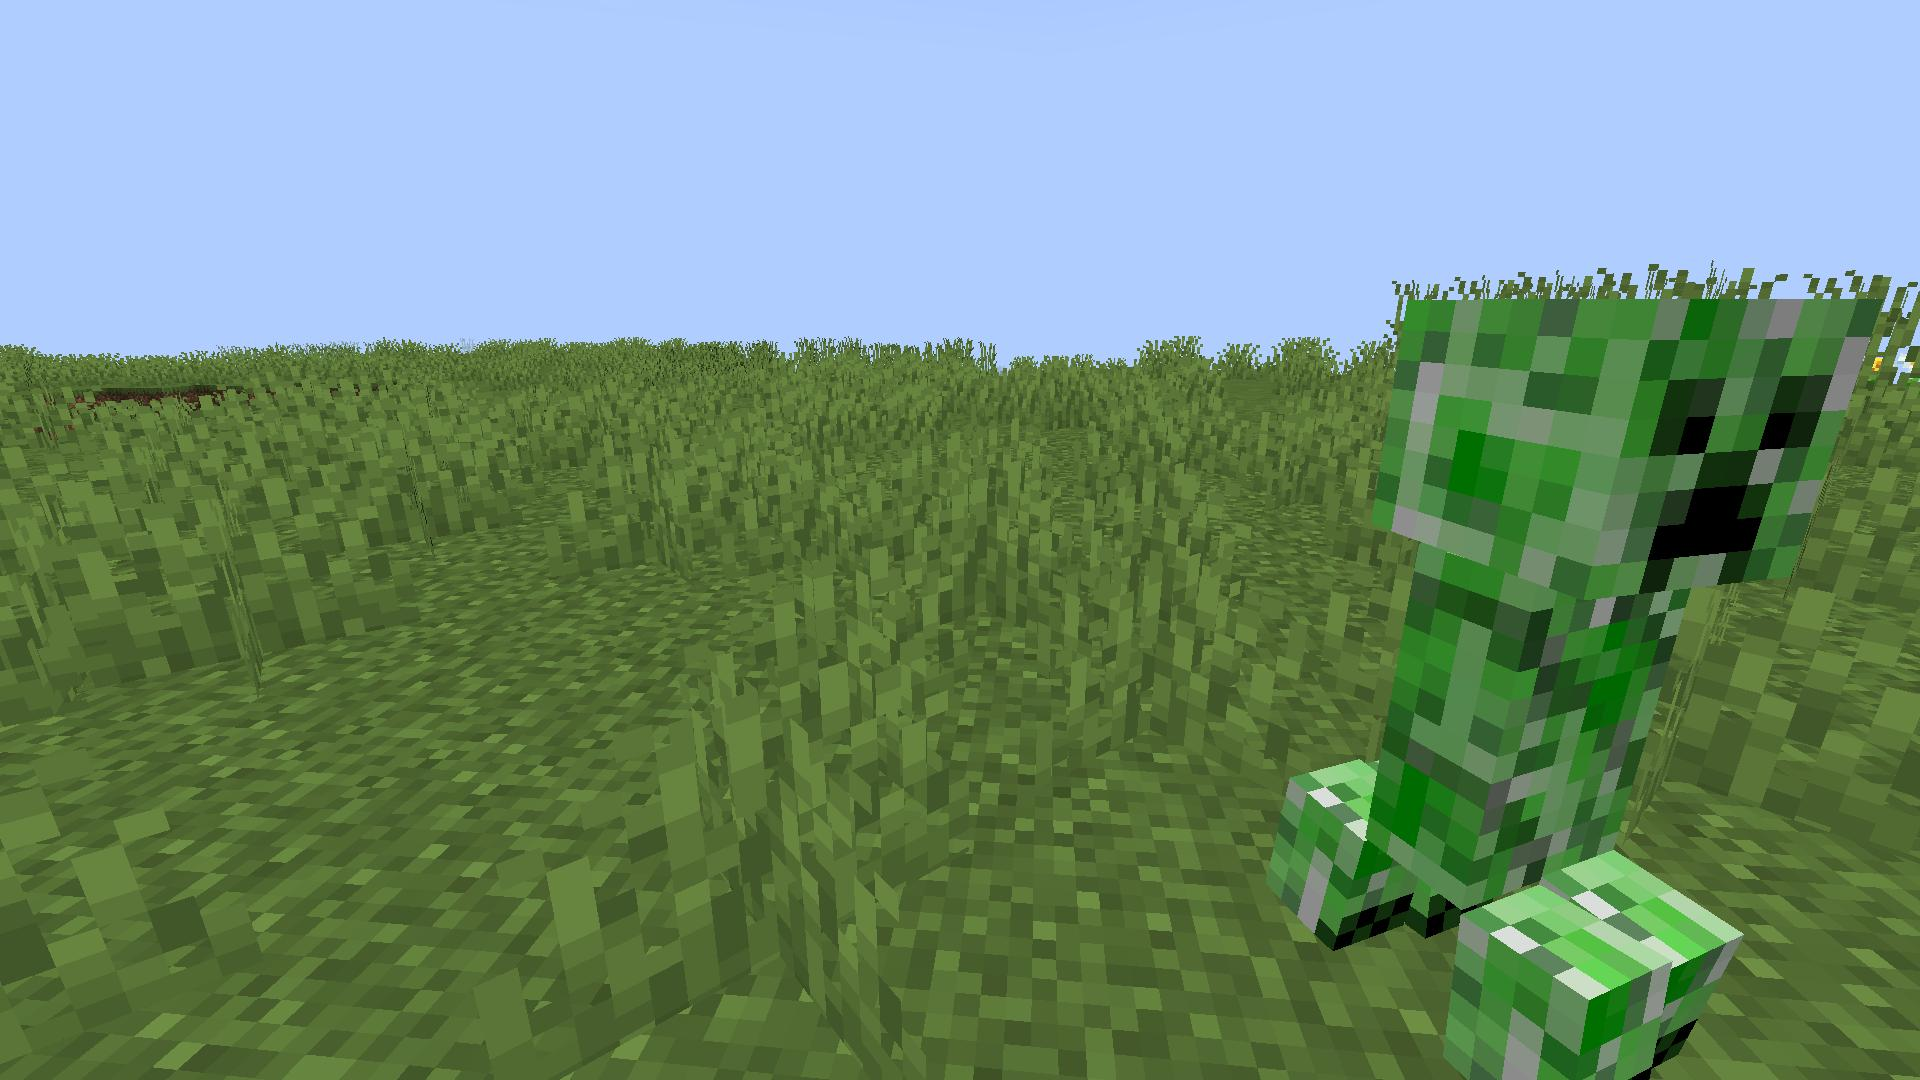creeper: (1262, 273, 1886, 1080)
